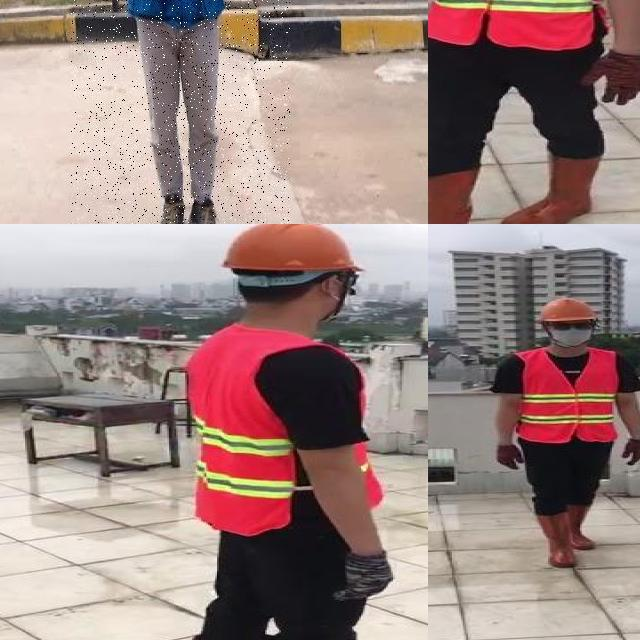boots: (500, 155, 600, 224), (428, 172, 476, 224), (541, 515, 576, 570), (566, 505, 594, 551), (186, 197, 227, 224), (156, 192, 186, 224)
face_mask: (549, 318, 595, 346)
glasses: (547, 320, 599, 332)
hand_glove: (582, 53, 640, 107), (338, 550, 395, 602), (496, 442, 525, 470), (621, 437, 640, 465)
head_helmet: (209, 224, 363, 276), (535, 298, 597, 324)
person: (157, 224, 428, 640), (71, 0, 290, 224), (428, 0, 640, 224), (486, 295, 640, 575)
vest: (185, 324, 308, 538), (512, 347, 618, 443), (428, 0, 597, 49), (352, 349, 386, 509)
